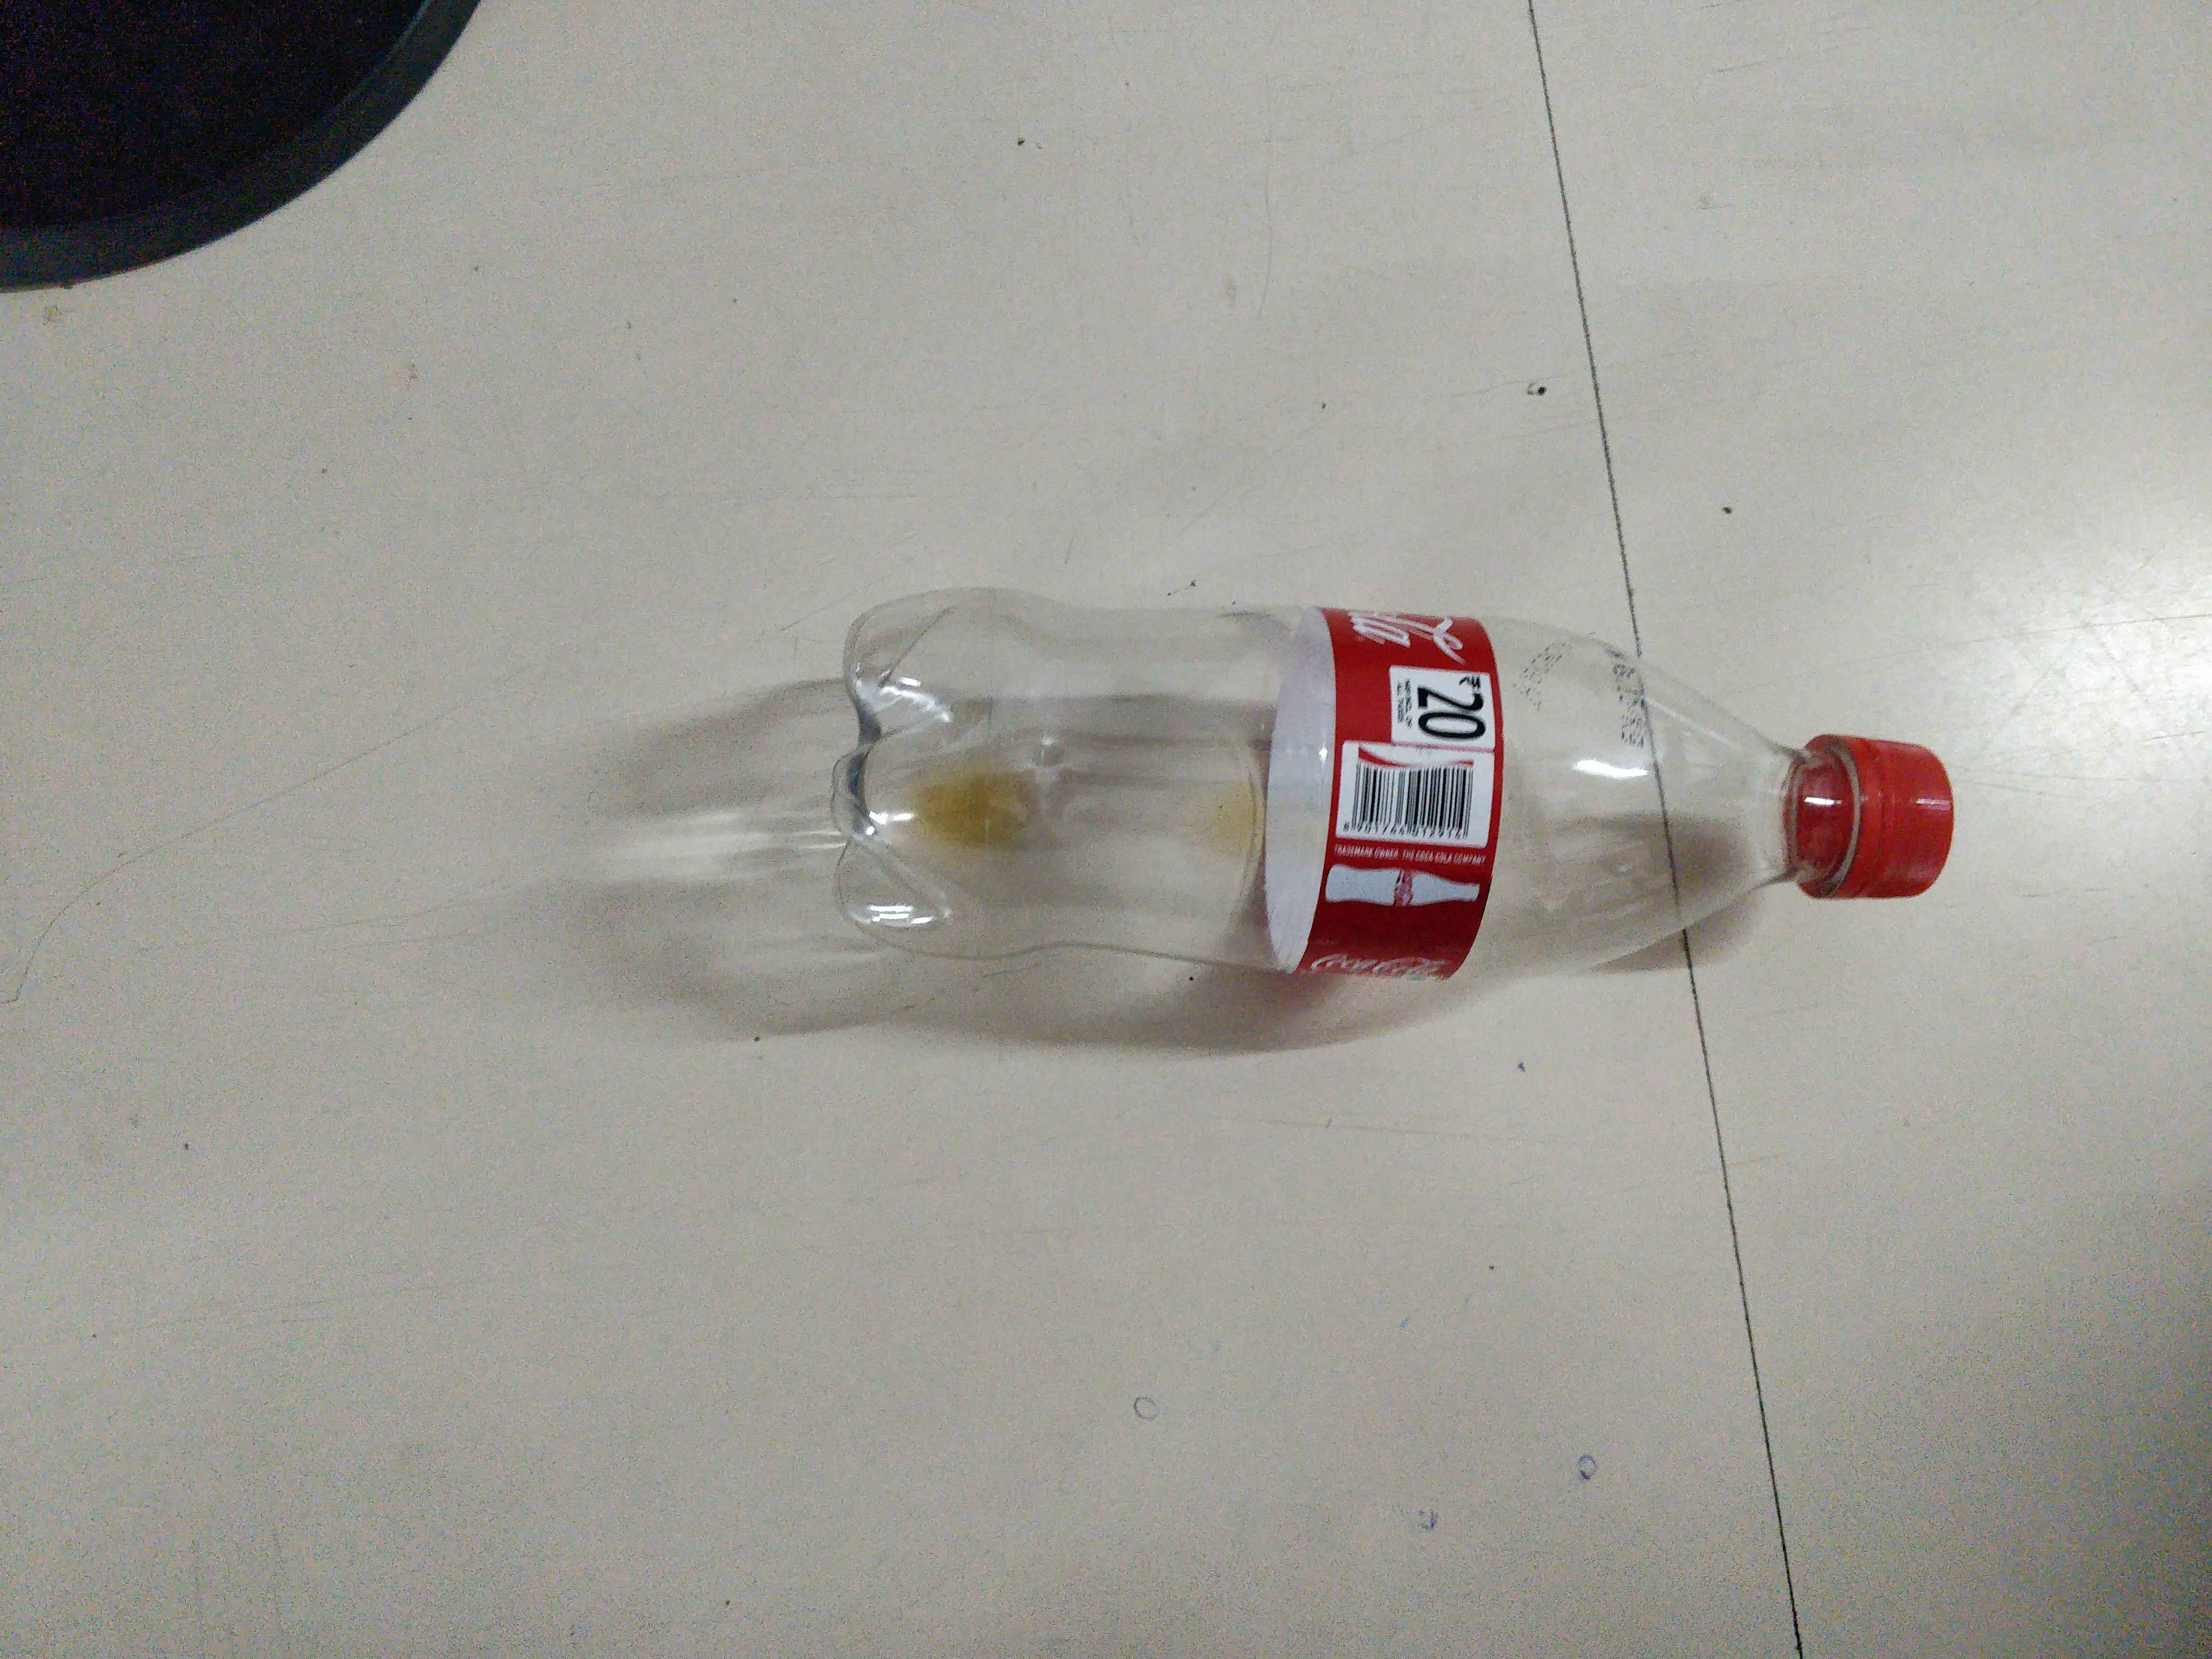Coca-Cola: (1324, 586, 1484, 964)
